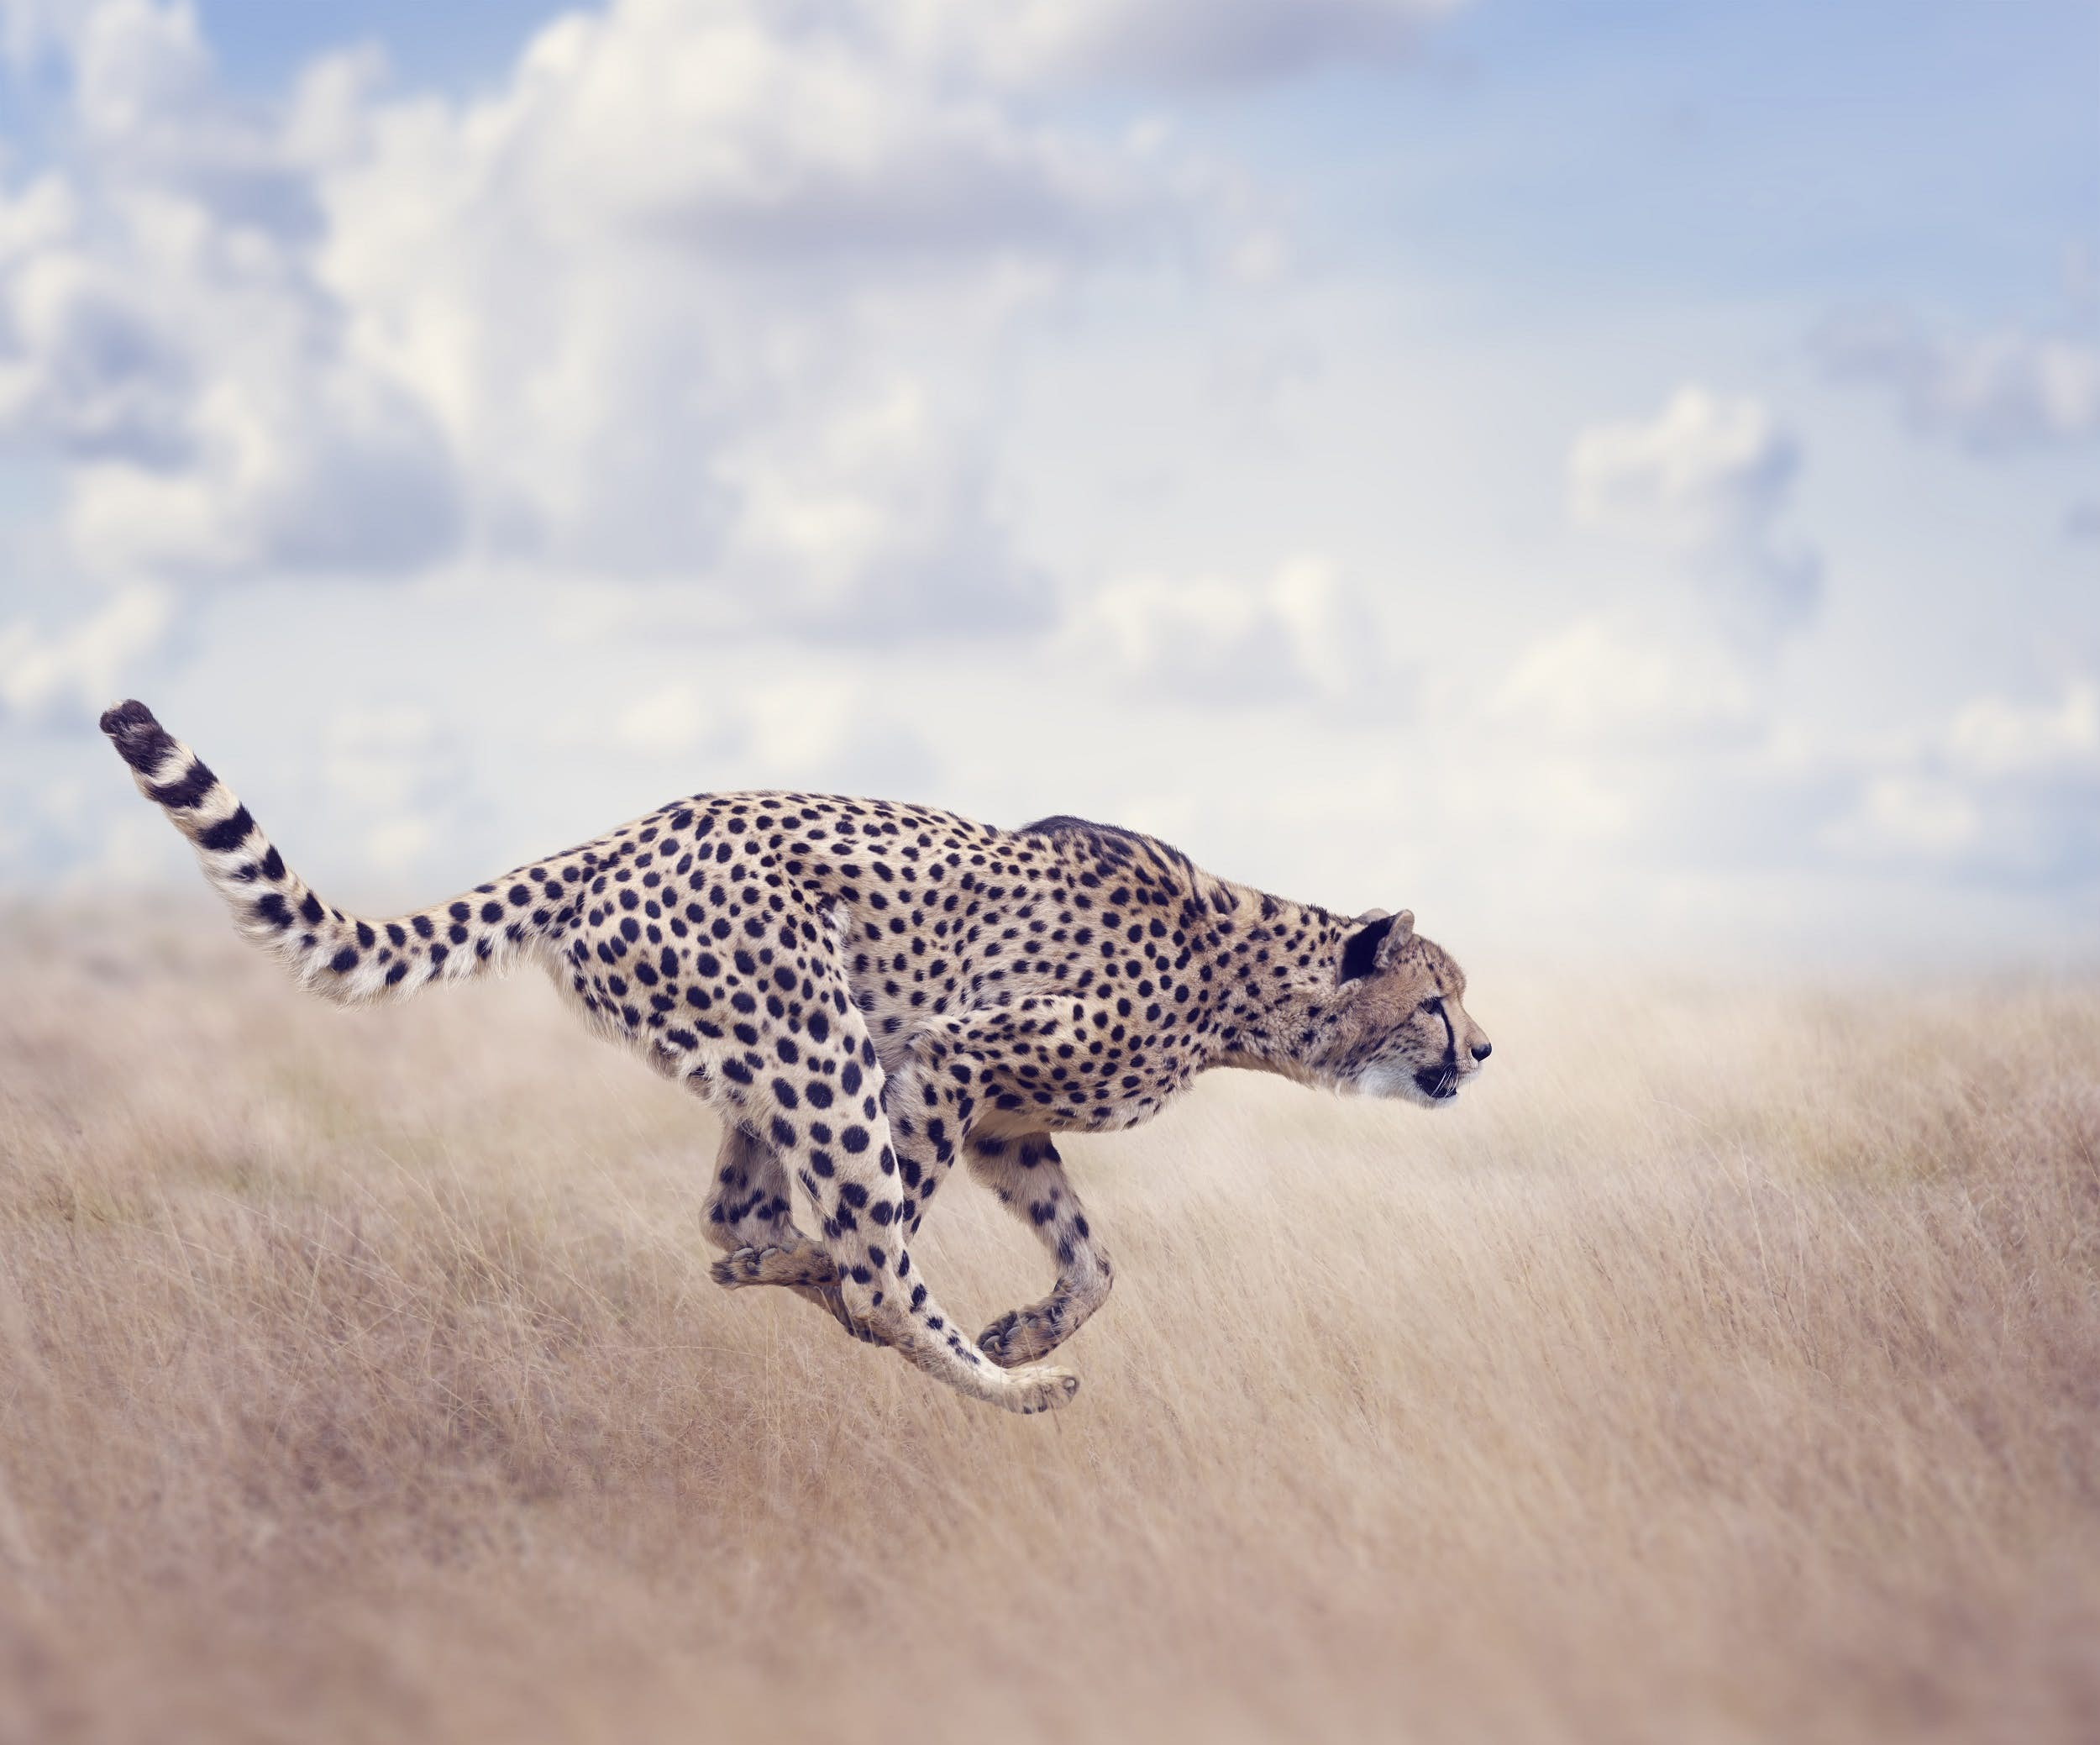cheetah: (1303, 881, 1503, 1146)
